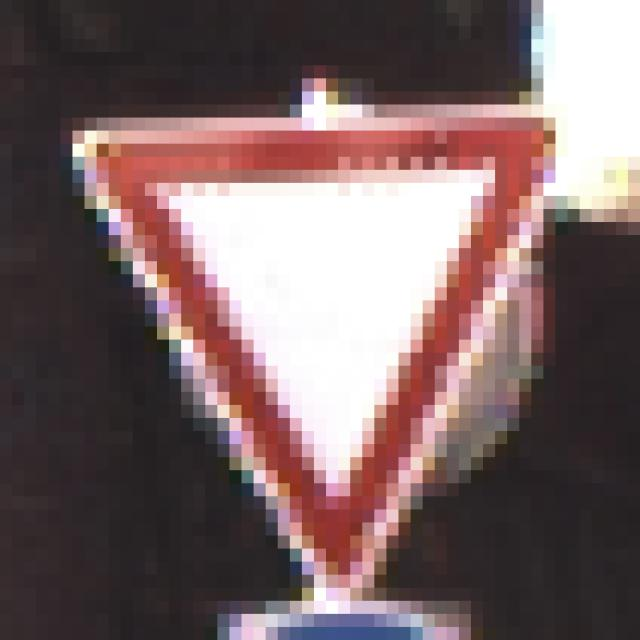Give Way: (62, 66, 569, 563)
